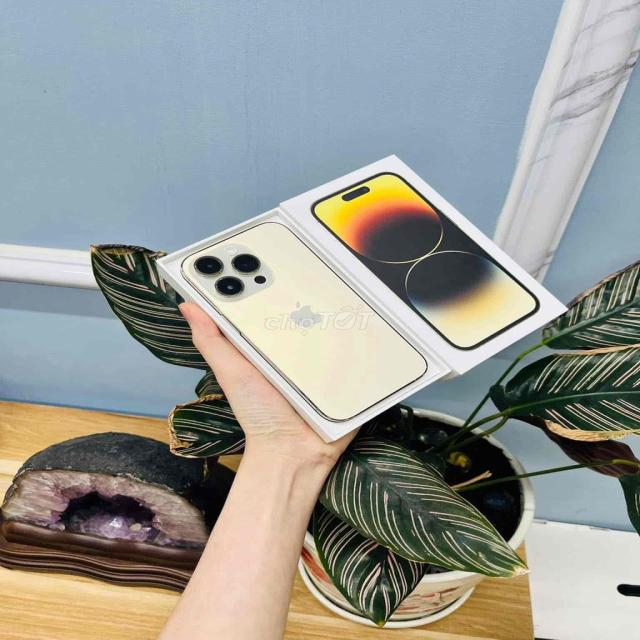gen_14: (178, 217, 432, 424)
